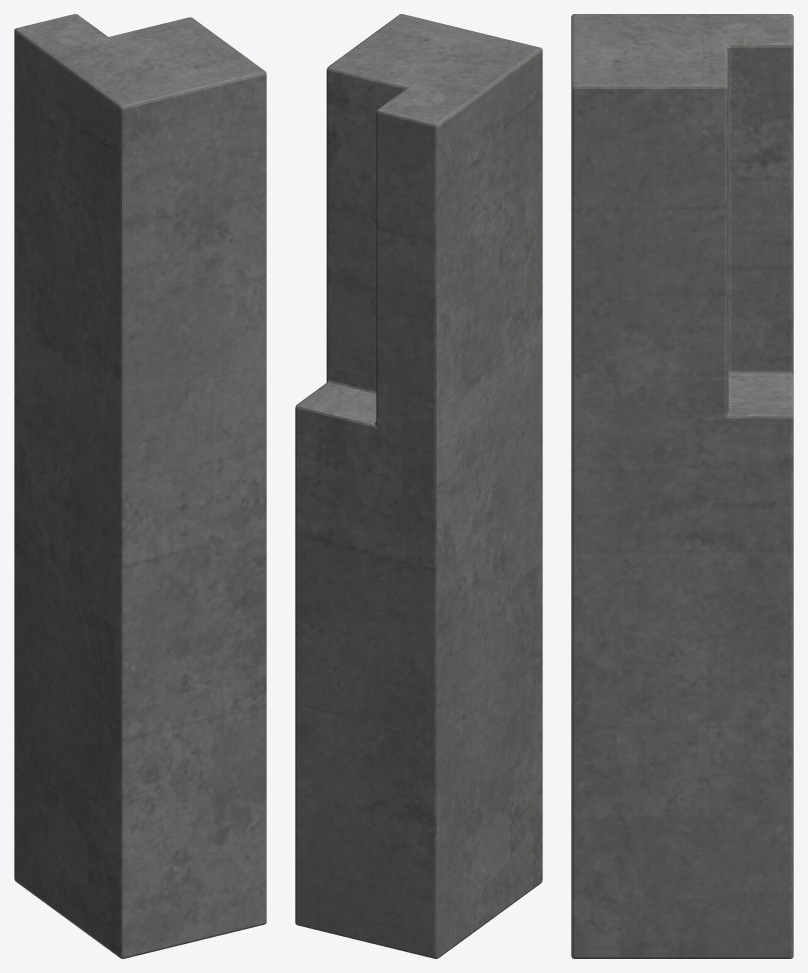
Rendered from SM_GarageConcrete_FrameLeft.fbx.
3 renders of one model, left to right at view 1: azimuth 30°, elevation 25°; view 2: azimuth 150°, elevation 25°; view 3: azimuth 270°, elevation 25°, orthographic. The views are drawn at different scales.
Parts seen in each view (by area): view 1: SM_GarageConcrete_FrameLeft; view 2: SM_GarageConcrete_FrameLeft; view 3: SM_GarageConcrete_FrameLeft.
Boxes of the visible parts, bbox=[...] form: SM_GarageConcrete_FrameLeft: bbox=[14, 14, 266, 958]; SM_GarageConcrete_FrameLeft: bbox=[295, 14, 542, 958]; SM_GarageConcrete_FrameLeft: bbox=[571, 14, 793, 958].
Bounding box in the file's own units: 35 × 45 × 195.
